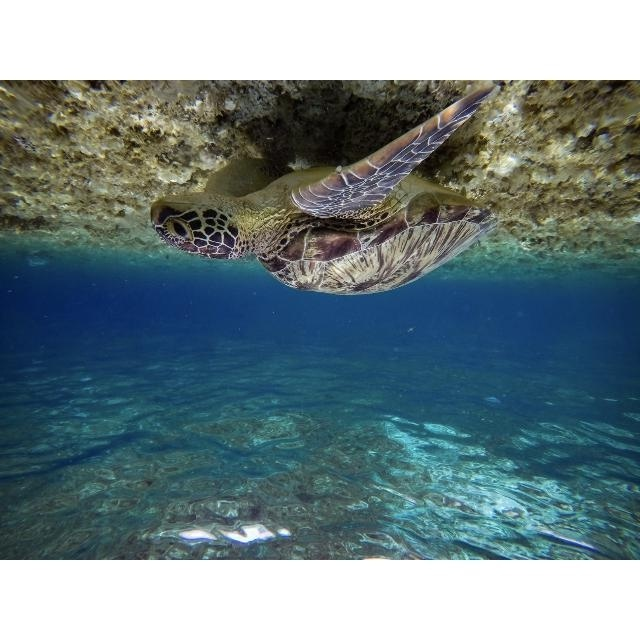turtle: (150, 82, 502, 297)
